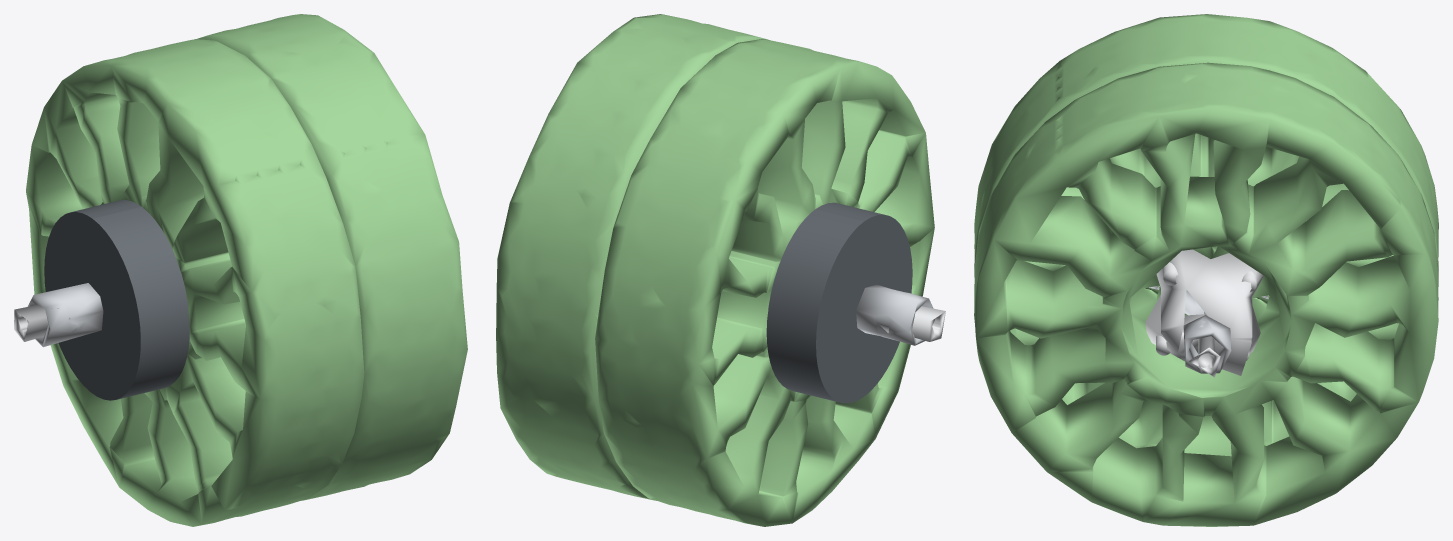
3 renders of one model, left to right at view 1: azimuth 30°, elevation 25°; view 2: azimuth 150°, elevation 25°; view 3: azimuth 270°, elevation 25°, orthographic. The views are drawn at different scales.
Parts seen in each view (by area): view 1: part_0, part_3, part_1, part_2; view 2: part_0, part_3, part_1, part_2; view 3: part_0, part_2, part_1.
Part boxes in pixels (x1,y1,x2,y2): part_0: [26, 14, 467, 526]; part_3: [44, 200, 189, 400]; part_1: [28, 283, 103, 347]; part_2: [14, 305, 48, 341]; part_0: [496, 14, 934, 526]; part_3: [766, 202, 912, 403]; part_1: [856, 284, 933, 345]; part_2: [912, 306, 945, 341]; part_0: [974, 14, 1438, 526]; part_2: [1145, 249, 1263, 377]; part_1: [1149, 286, 1268, 373].
Bounding box in the file's own units: 0.0965 × 0.0956 × 0.0957.
